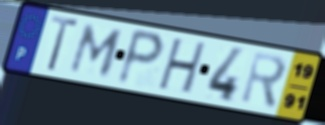4: (204, 46, 248, 104)
H: (155, 37, 210, 97)
M: (66, 22, 127, 79)
P: (114, 26, 167, 88)
R: (238, 49, 289, 112)
T: (45, 13, 82, 74)
